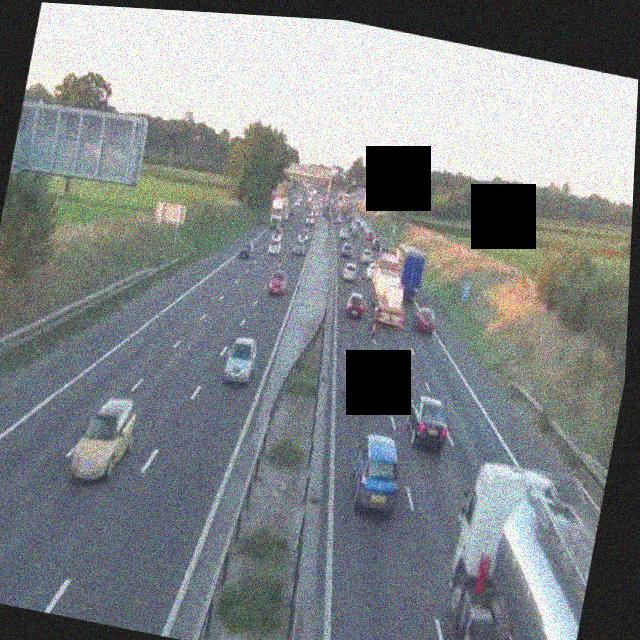car: (67, 390, 141, 489), (345, 430, 407, 516), (401, 393, 454, 453), (223, 334, 261, 388), (343, 362, 381, 410), (411, 305, 438, 335), (344, 290, 368, 319), (267, 270, 287, 297), (341, 261, 359, 284), (237, 239, 255, 261), (362, 259, 378, 280), (292, 236, 307, 256), (268, 237, 283, 256), (362, 246, 376, 264), (340, 241, 353, 259), (270, 227, 283, 244), (306, 214, 318, 228)
truck: (429, 453, 606, 640), (362, 242, 417, 331), (389, 242, 429, 307), (268, 194, 288, 230)
